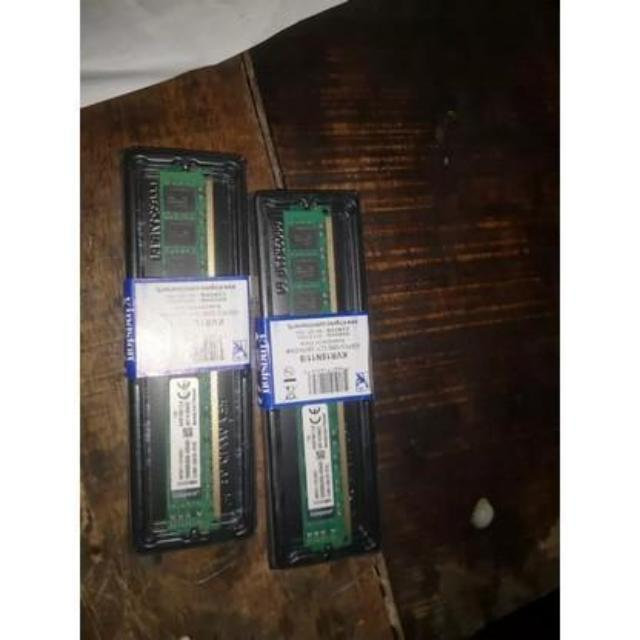RAM: (128, 142, 246, 544), (260, 182, 366, 552)
